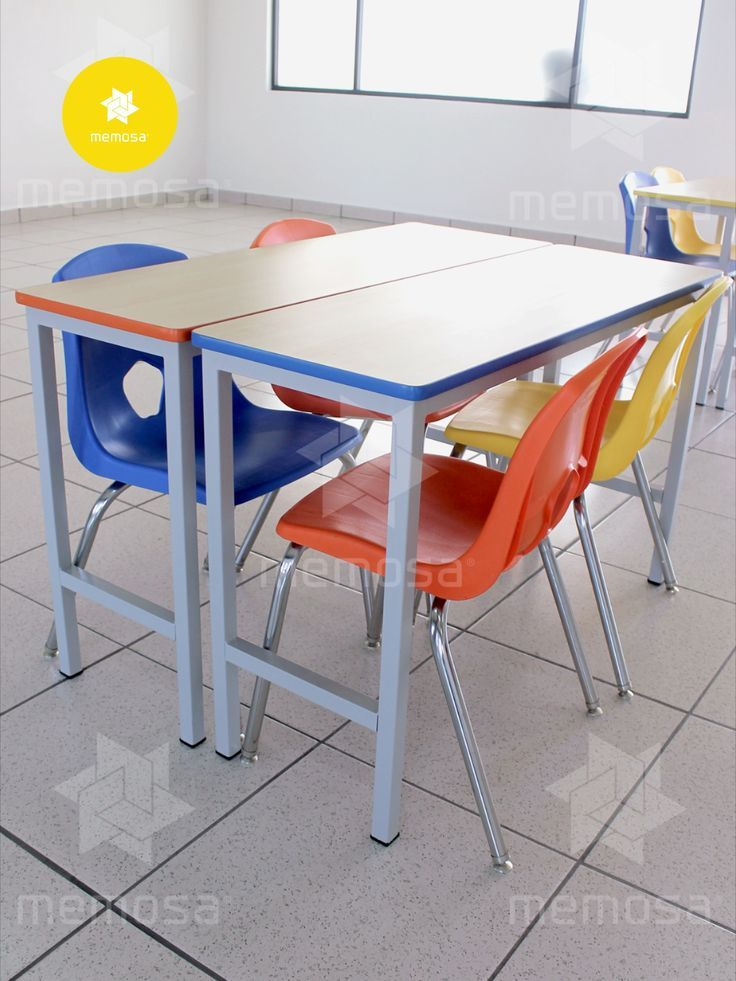m01: (14, 222, 724, 847)
